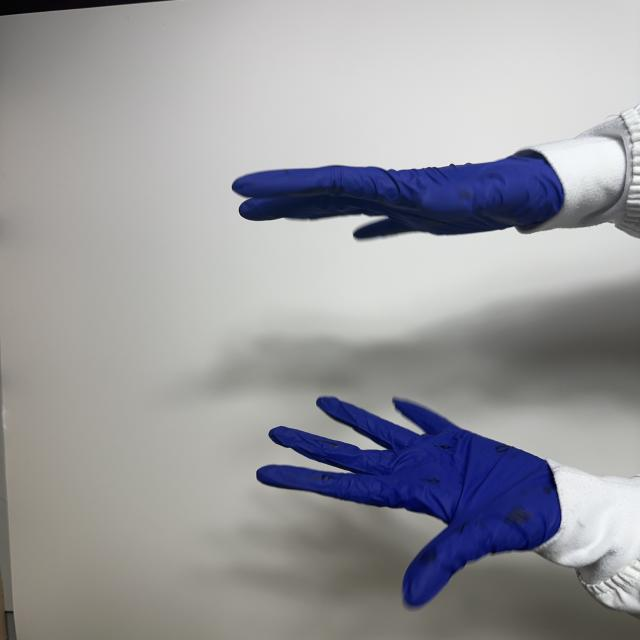gloves_contaminated: (257, 397, 560, 606), (232, 156, 567, 238)
